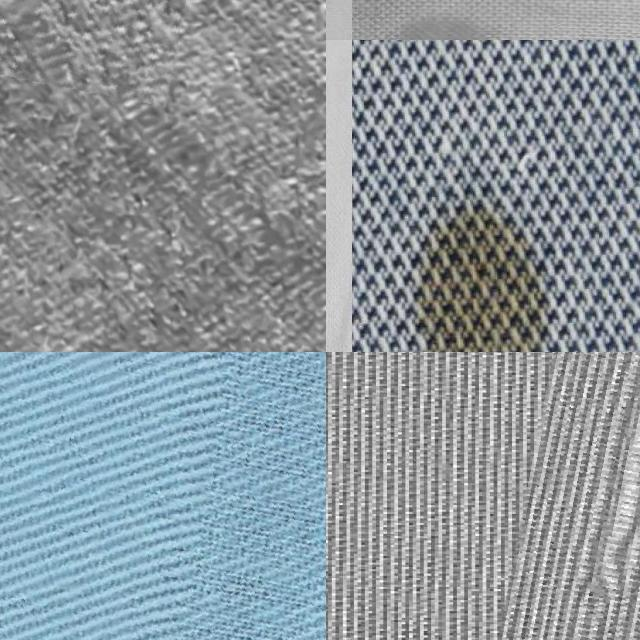Thread_other: (383, 173, 567, 352), (352, 0, 560, 39)
stains: (0, 352, 326, 640), (512, 352, 640, 640)
